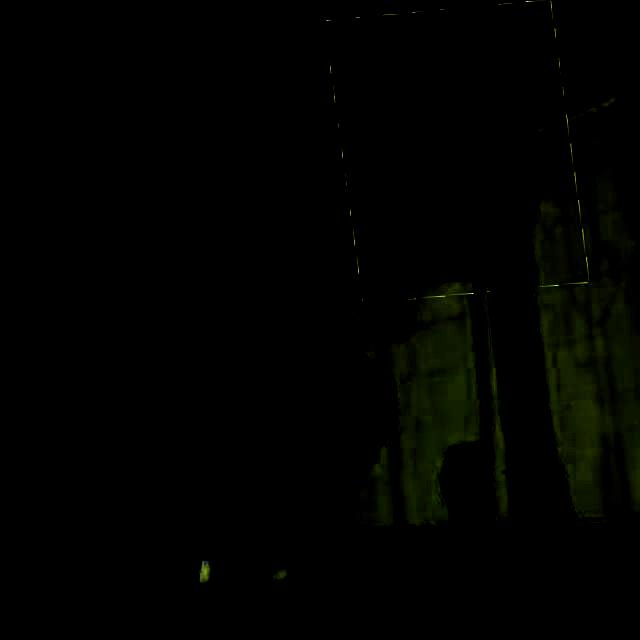barbell: (325, 8, 582, 307)
